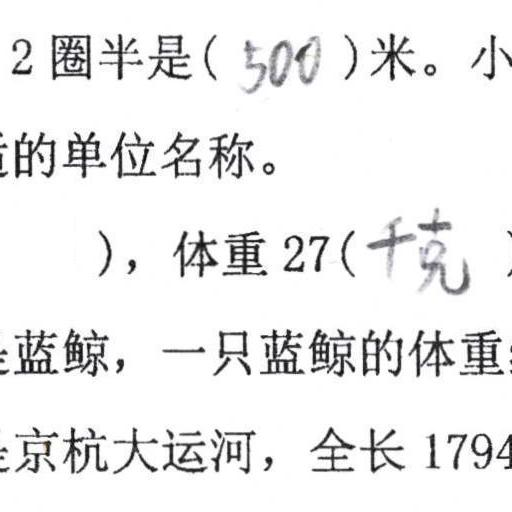ans: (361, 202, 471, 297), (235, 28, 322, 94)
